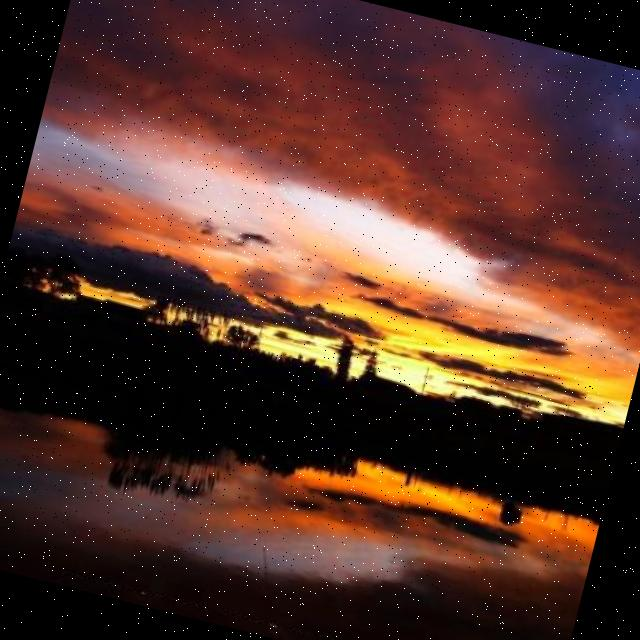As: (10, 9, 640, 401)
